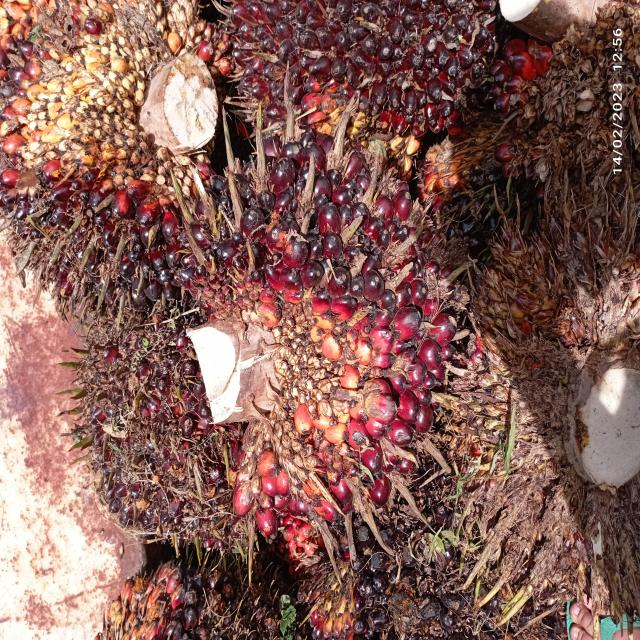fraksi 1: (154, 124, 468, 565), (57, 321, 234, 555)
